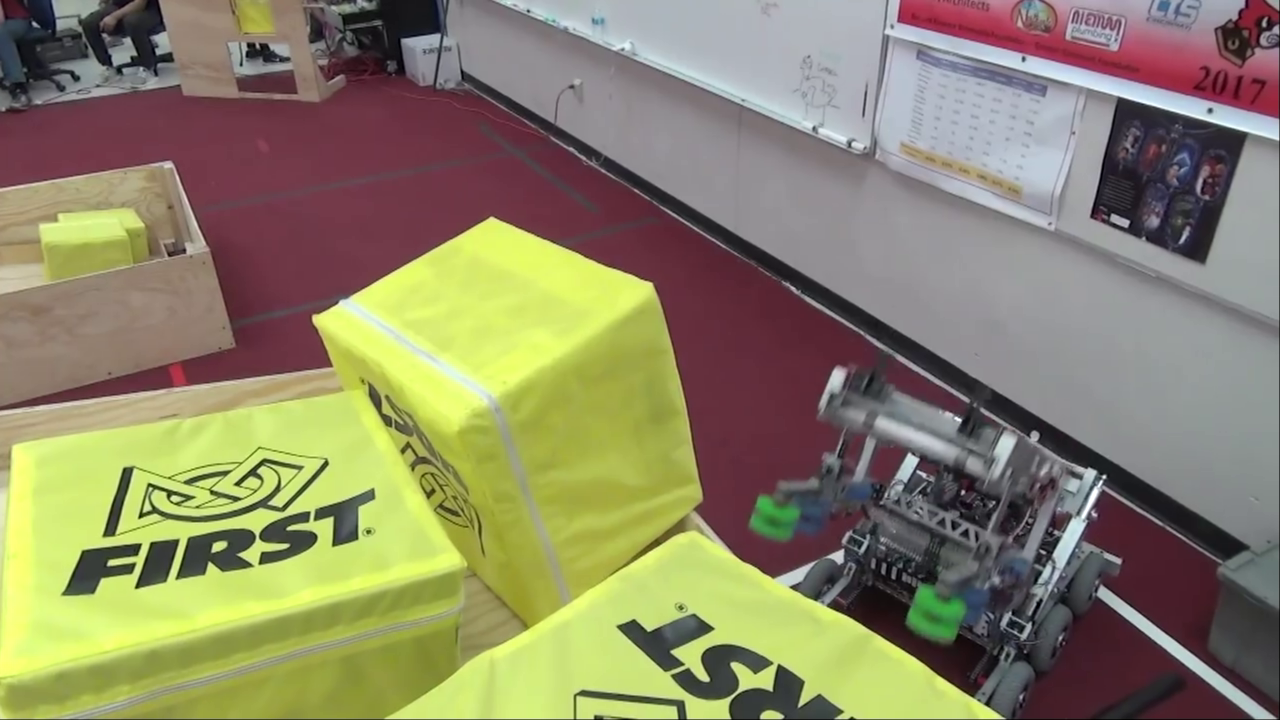cube: (311, 214, 706, 640), (1, 387, 468, 720), (379, 530, 1019, 720), (36, 222, 133, 300), (57, 204, 151, 281), (230, 1, 279, 36)
